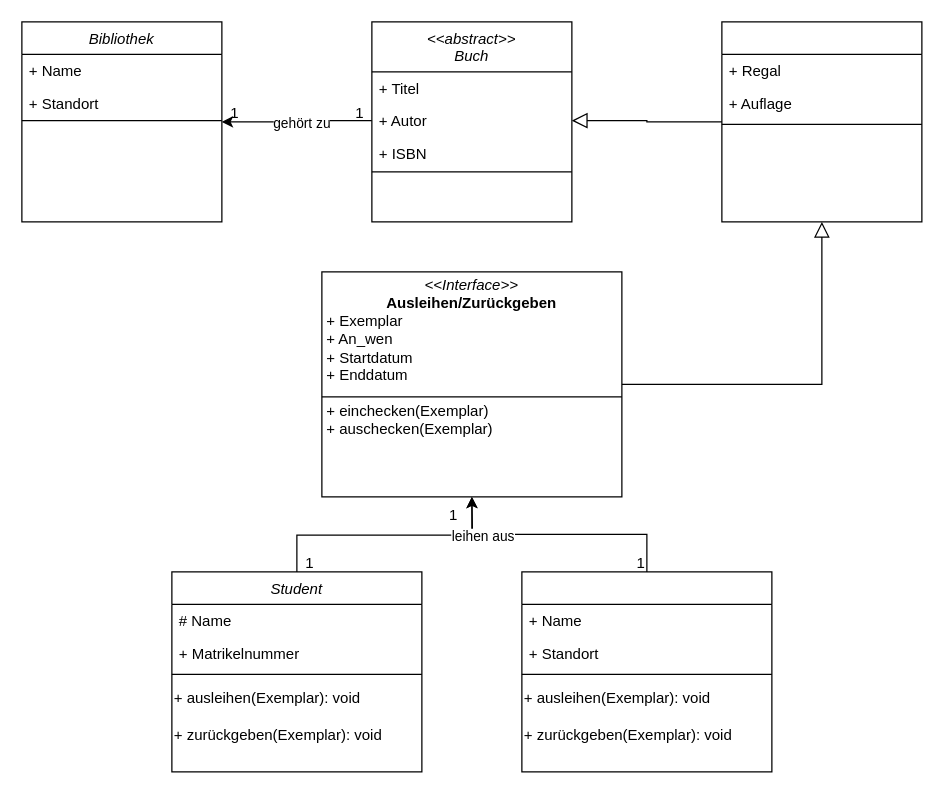
This 944x794 diagram has some shape labels left out. Each missing label, with the box of its shape:
Exemplar: (721, 21, 922, 222)
Institut: (521, 571, 772, 772)
